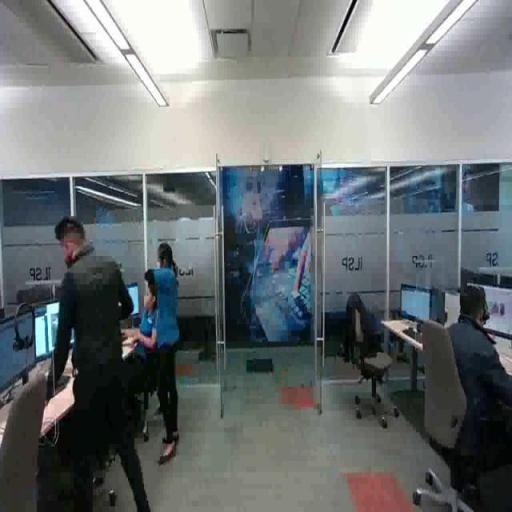person: (41, 214, 155, 512), (436, 284, 512, 512), (147, 239, 186, 465)
